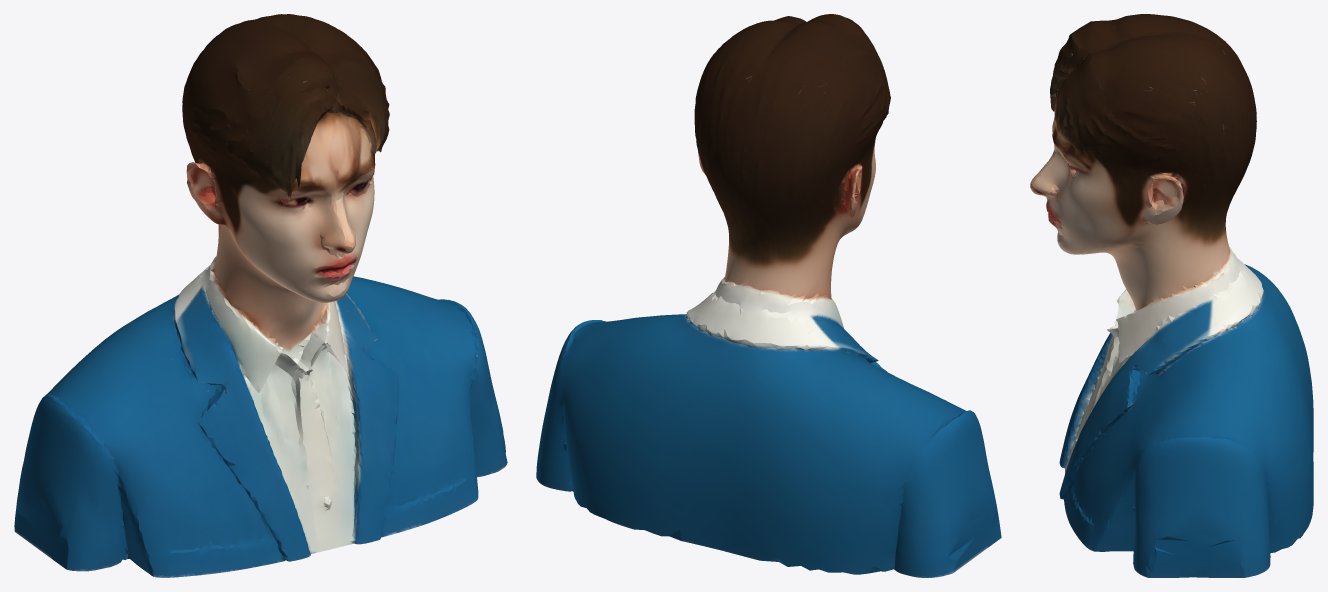
The model's file is male_ChaEunWoo_BlueSuit.glb.
3 renders of one model, left to right at view 1: azimuth 30°, elevation 25°; view 2: azimuth 150°, elevation 25°; view 3: azimuth 270°, elevation 25°, orthographic. The views are drawn at different scales.
Visible parts, largest first — view 1: ChaEunWoo_BlueSuit; view 2: ChaEunWoo_BlueSuit; view 3: ChaEunWoo_BlueSuit.
Boxes of the visible parts, left/top/right/bottom form: ChaEunWoo_BlueSuit: left=14, top=14, right=507, bottom=577; ChaEunWoo_BlueSuit: left=536, top=14, right=1001, bottom=577; ChaEunWoo_BlueSuit: left=1030, top=14, right=1313, bottom=577.
Size of the model in its own units: 1.8 by 1.9 by 1.08.
Materials: 1 (1 with a texture image).
